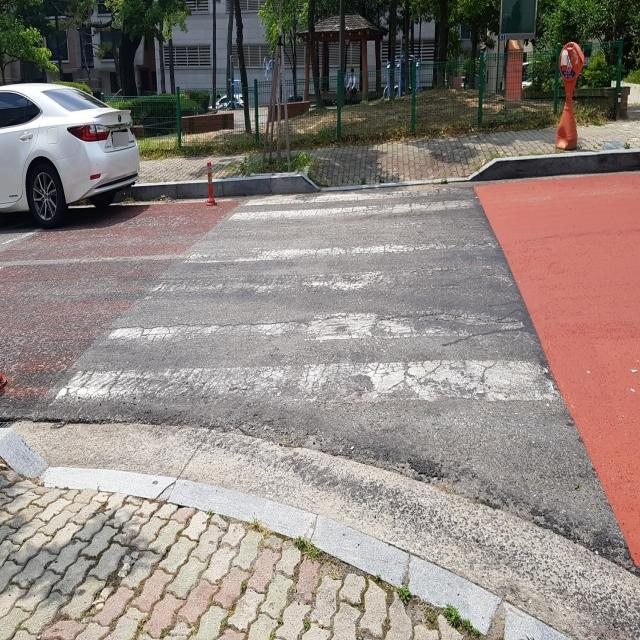횡단보도: (44, 180, 566, 412)
